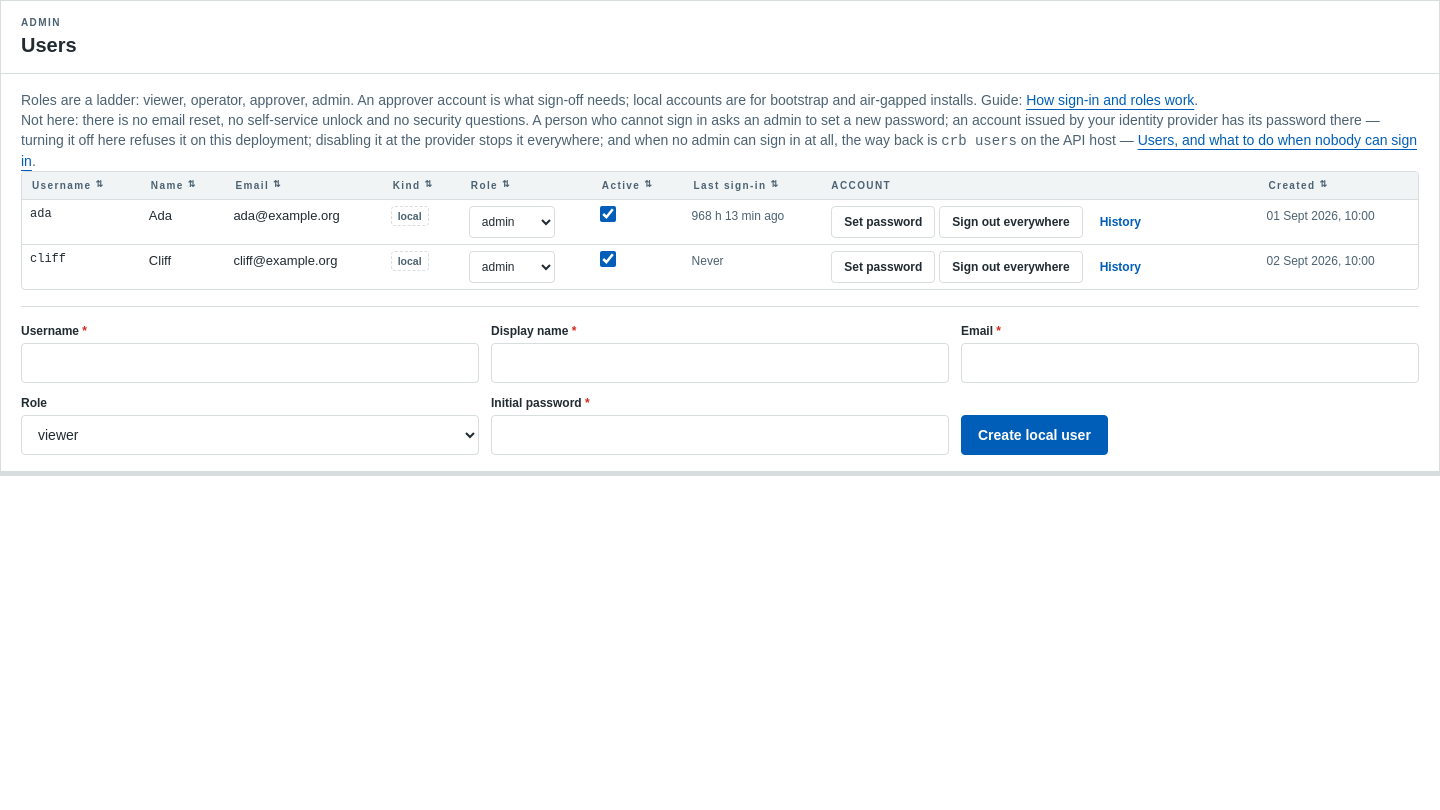
UsersCard › a refusal puts the toggle back: the server is the one that decides
What coordinates should you click on to do the following:
click the checkbox with test id "user-active-ada"
I would click on:
 (608, 214)
Its box is [600,206,616,222].
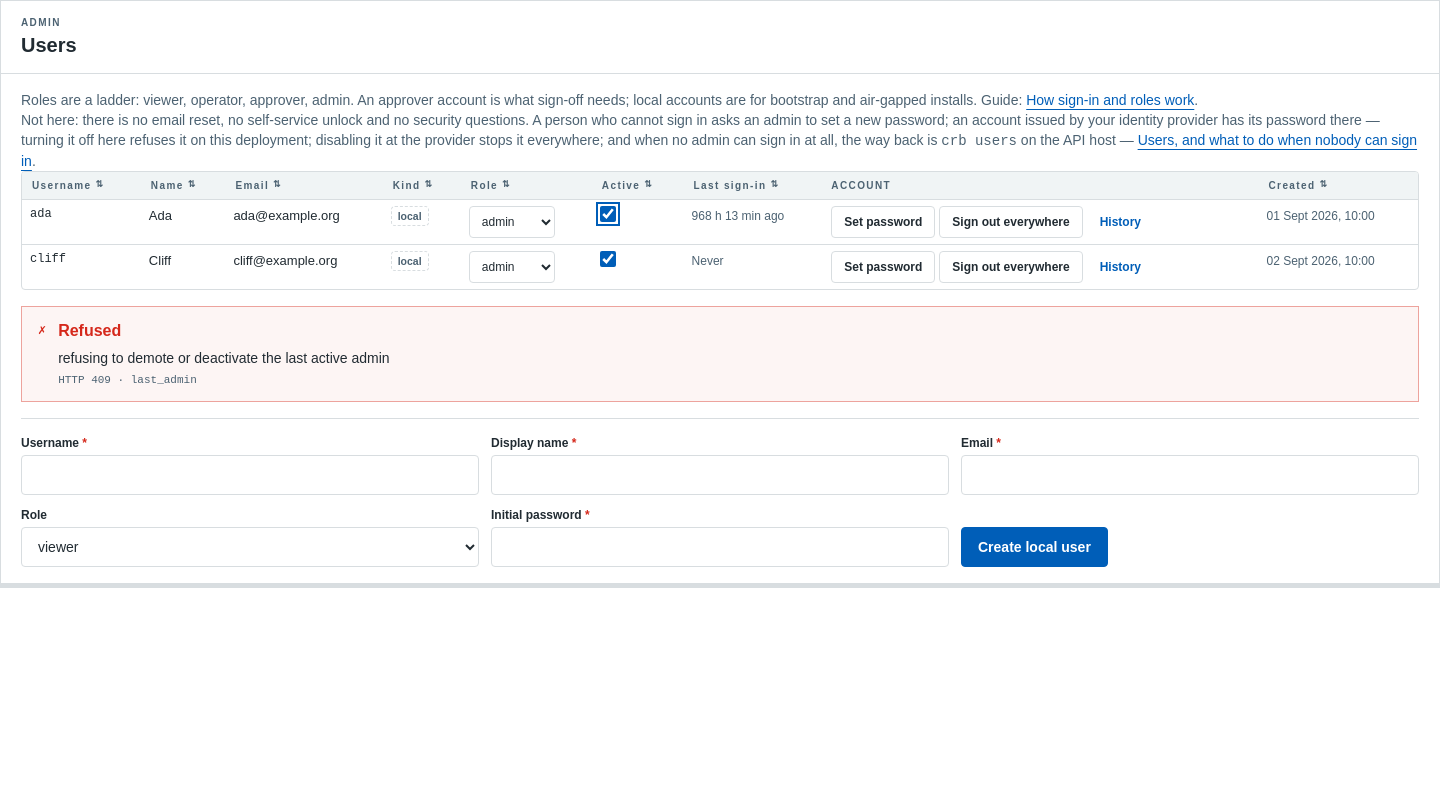
Expected: the message with test id "error-state" shows "last active admin", [58,350,390,366]
